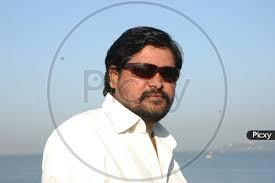sunglasses: (120, 58, 187, 82)
